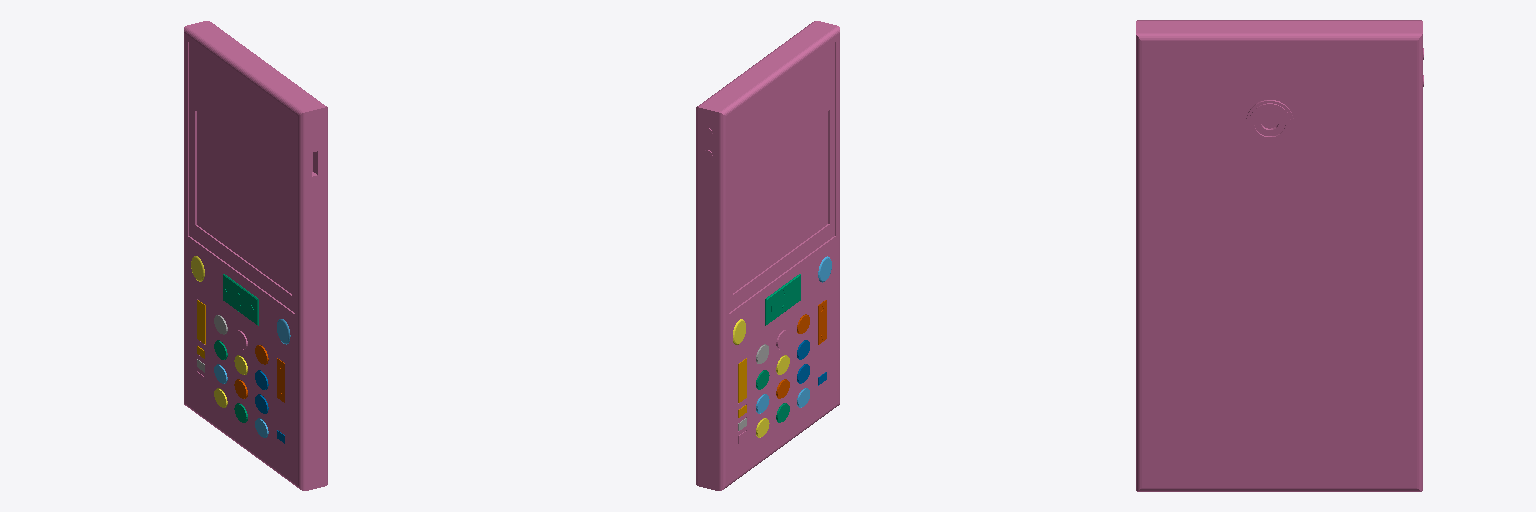
--- What the picture shows (computed from the rendered views, not written in the file) ---
3 views of the same robot in one strip: view 1: azimuth 30°, elevation 25°; view 2: azimuth 150°, elevation 25°; view 3: azimuth 270°, elevation 25° (orthographic).
Robot: partnet_b1feb3020d9380ba4fb324159a14f34e — 23 links, 22 joints (2 revolute, 19 prismatic, 1 fixed); root link base; default pose: all joints at 0.
Visible links, largest first — view 1: link_21, link_9; view 2: link_21, link_9; view 3: link_21.
Boxes of the visible links, left/top/right/bottom form: link_21: left=184, top=21, right=327, bottom=490; link_9: left=223, top=274, right=258, bottom=325; link_21: left=696, top=21, right=839, bottom=490; link_9: left=765, top=274, right=800, bottom=325; link_21: left=1136, top=20, right=1423, bottom=491.
Size in the robot's own frame: 0.1663 by 1.01 by 1.77 metres.
94 mesh visuals loaded from 94 distinct referenced files (94 OBJ).

The robot description file, URDF, robot "partnet_b1feb3020d9380ba4fb324159a14f34e":
<?xml version="1.0" ?>
<robot name="partnet_b1feb3020d9380ba4fb324159a14f34e">
	<link name="base"/>
	<link name="link_0">
		<visual name="button-1">
			<origin xyz="0 0 0"/>
			<geometry>
				<mesh filename="textured_objs/original-76.obj"/>
			</geometry>
		</visual>
		<collision>
			<origin xyz="0 0 0"/>
			<geometry>
				<mesh filename="textured_objs/original-76.obj"/>
			</geometry>
		</collision>
	</link>
	<joint name="joint_0" type="prismatic">
		<origin xyz="0 0 0"/>
		<axis xyz="0 0 -1"/>
		<child link="link_0"/>
		<parent link="link_21"/>
		<limit lower="0" upper="0.002"/>
	</joint>
	<link name="link_1">
		<visual name="button-2">
			<origin xyz="0 0 0"/>
			<geometry>
				<mesh filename="textured_objs/original-77.obj"/>
			</geometry>
		</visual>
		<collision>
			<origin xyz="0 0 0"/>
			<geometry>
				<mesh filename="textured_objs/original-77.obj"/>
			</geometry>
		</collision>
	</link>
	<joint name="joint_1" type="prismatic">
		<origin xyz="0 0 0"/>
		<axis xyz="0 0 -1"/>
		<child link="link_1"/>
		<parent link="link_21"/>
		<limit lower="0" upper="0.002"/>
	</joint>
	<link name="link_2">
		<visual name="button-3">
			<origin xyz="0 0 0"/>
			<geometry>
				<mesh filename="textured_objs/original-79.obj"/>
			</geometry>
		</visual>
		<collision>
			<origin xyz="0 0 0"/>
			<geometry>
				<mesh filename="textured_objs/original-79.obj"/>
			</geometry>
		</collision>
	</link>
	<joint name="joint_2" type="prismatic">
		<origin xyz="0 0 0"/>
		<axis xyz="0 0 -1"/>
		<child link="link_2"/>
		<parent link="link_21"/>
		<limit lower="0" upper="0.002"/>
	</joint>
	<link name="link_3">
		<visual name="button-4">
			<origin xyz="0 0 0"/>
			<geometry>
				<mesh filename="textured_objs/original-74.obj"/>
			</geometry>
		</visual>
		<collision>
			<origin xyz="0 0 0"/>
			<geometry>
				<mesh filename="textured_objs/original-74.obj"/>
			</geometry>
		</collision>
	</link>
	<joint name="joint_3" type="prismatic">
		<origin xyz="0 0 0"/>
		<axis xyz="0 0 -1"/>
		<child link="link_3"/>
		<parent link="link_21"/>
		<limit lower="0" upper="0.002"/>
	</joint>
	<link name="link_4">
		<visual name="button-5">
			<origin xyz="0 0 0"/>
			<geometry>
				<mesh filename="textured_objs/original-70.obj"/>
			</geometry>
		</visual>
		<collision>
			<origin xyz="0 0 0"/>
			<geometry>
				<mesh filename="textured_objs/original-70.obj"/>
			</geometry>
		</collision>
	</link>
	<joint name="joint_4" type="prismatic">
		<origin xyz="0 0 0"/>
		<axis xyz="0 0 -1"/>
		<child link="link_4"/>
		<parent link="link_21"/>
		<limit lower="0" upper="0.002"/>
	</joint>
	<link name="link_5">
		<visual name="button-6">
			<origin xyz="0 0 0"/>
			<geometry>
				<mesh filename="textured_objs/original-72.obj"/>
			</geometry>
		</visual>
		<collision>
			<origin xyz="0 0 0"/>
			<geometry>
				<mesh filename="textured_objs/original-72.obj"/>
			</geometry>
		</collision>
	</link>
	<joint name="joint_5" type="prismatic">
		<origin xyz="0 0 0"/>
		<axis xyz="0 0 -1"/>
		<child link="link_5"/>
		<parent link="link_21"/>
		<limit lower="0" upper="0.002"/>
	</joint>
	<link name="link_6">
		<visual name="button-7">
			<origin xyz="0 0 0"/>
			<geometry>
				<mesh filename="textured_objs/original-73.obj"/>
			</geometry>
		</visual>
		<collision>
			<origin xyz="0 0 0"/>
			<geometry>
				<mesh filename="textured_objs/original-73.obj"/>
			</geometry>
		</collision>
	</link>
	<joint name="joint_6" type="prismatic">
		<origin xyz="0 0 0"/>
		<axis xyz="0 0 -1"/>
		<child link="link_6"/>
		<parent link="link_21"/>
		<limit lower="0" upper="0.002"/>
	</joint>
	<link name="link_7">
		<visual name="button-8">
			<origin xyz="-0.344921 0.4128925 -0.07"/>
			<geometry>
				<mesh filename="textured_objs/original-84.obj"/>
			</geometry>
		</visual>
		<visual name="button-8">
			<origin xyz="-0.344921 0.4128925 -0.07"/>
			<geometry>
				<mesh filename="textured_objs/original-54.obj"/>
			</geometry>
		</visual>
		<collision>
			<origin xyz="-0.344921 0.4128925 -0.07"/>
			<geometry>
				<mesh filename="textured_objs/original-84.obj"/>
			</geometry>
		</collision>
		<collision>
			<origin xyz="-0.344921 0.4128925 -0.07"/>
			<geometry>
				<mesh filename="textured_objs/original-54.obj"/>
			</geometry>
		</collision>
	</link>
	<joint name="joint_7" type="revolute">
		<origin xyz="0.344921 -0.4128925 0.07"/>
		<axis xyz="1 0 0"/>
		<child link="link_7"/>
		<parent link="link_21"/>
		<limit lower="-0.017453292519943295" upper="0.017453292519943295"/>
	</joint>
	<link name="link_8">
		<visual name="button-9">
			<origin xyz="0 0 0"/>
			<geometry>
				<mesh filename="textured_objs/original-85.obj"/>
			</geometry>
		</visual>
		<collision>
			<origin xyz="0 0 0"/>
			<geometry>
				<mesh filename="textured_objs/original-85.obj"/>
			</geometry>
		</collision>
	</link>
	<joint name="joint_8" type="prismatic">
		<origin xyz="0 0 0"/>
		<axis xyz="0 0 -1"/>
		<child link="link_8"/>
		<parent link="link_21"/>
		<limit lower="0" upper="0.002"/>
	</joint>
	<link name="link_9">
		<visual name="button-10">
			<origin xyz="0 0 0"/>
			<geometry>
				<mesh filename="textured_objs/original-57.obj"/>
			</geometry>
		</visual>
		<visual name="button-10">
			<origin xyz="0 0 0"/>
			<geometry>
				<mesh filename="textured_objs/original-96.obj"/>
			</geometry>
		</visual>
		<visual name="button-10">
			<origin xyz="0 0 0"/>
			<geometry>
				<mesh filename="textured_objs/original-103.obj"/>
			</geometry>
		</visual>
		<visual name="button-10">
			<origin xyz="0 0 0"/>
			<geometry>
				<mesh filename="textured_objs/original-104.obj"/>
			</geometry>
		</visual>
		<visual name="button-10">
			<origin xyz="0 0 0"/>
			<geometry>
				<mesh filename="textured_objs/original-58.obj"/>
			</geometry>
		</visual>
		<visual name="button-10">
			<origin xyz="0 0 0"/>
			<geometry>
				<mesh filename="textured_objs/original-97.obj"/>
			</geometry>
		</visual>
		<visual name="button-10">
			<origin xyz="0 0 0"/>
			<geometry>
				<mesh filename="textured_objs/original-83.obj"/>
			</geometry>
		</visual>
		<visual name="button-10">
			<origin xyz="0 0 0"/>
			<geometry>
				<mesh filename="textured_objs/original-105.obj"/>
			</geometry>
		</visual>
		<visual name="button-10">
			<origin xyz="0 0 0"/>
			<geometry>
				<mesh filename="textured_objs/original-106.obj"/>
			</geometry>
		</visual>
		<visual name="button-10">
			<origin xyz="0 0 0"/>
			<geometry>
				<mesh filename="textured_objs/original-51.obj"/>
			</geometry>
		</visual>
		<collision>
			<origin xyz="0 0 0"/>
			<geometry>
				<mesh filename="textured_objs/original-57.obj"/>
			</geometry>
		</collision>
		<collision>
			<origin xyz="0 0 0"/>
			<geometry>
				<mesh filename="textured_objs/original-96.obj"/>
			</geometry>
		</collision>
		<collision>
			<origin xyz="0 0 0"/>
			<geometry>
				<mesh filename="textured_objs/original-103.obj"/>
			</geometry>
		</collision>
		<collision>
			<origin xyz="0 0 0"/>
			<geometry>
				<mesh filename="textured_objs/original-104.obj"/>
			</geometry>
		</collision>
		<collision>
			<origin xyz="0 0 0"/>
			<geometry>
				<mesh filename="textured_objs/original-58.obj"/>
			</geometry>
		</collision>
		<collision>
			<origin xyz="0 0 0"/>
			<geometry>
				<mesh filename="textured_objs/original-97.obj"/>
			</geometry>
		</collision>
		<collision>
			<origin xyz="0 0 0"/>
			<geometry>
				<mesh filename="textured_objs/original-83.obj"/>
			</geometry>
		</collision>
		<collision>
			<origin xyz="0 0 0"/>
			<geometry>
				<mesh filename="textured_objs/original-105.obj"/>
			</geometry>
		</collision>
		<collision>
			<origin xyz="0 0 0"/>
			<geometry>
				<mesh filename="textured_objs/original-106.obj"/>
			</geometry>
		</collision>
		<collision>
			<origin xyz="0 0 0"/>
			<geometry>
				<mesh filename="textured_objs/original-51.obj"/>
			</geometry>
		</collision>
	</link>
	<joint name="joint_9" type="prismatic">
		<origin xyz="0 0 0"/>
		<axis xyz="0 0 -1"/>
		<child link="link_9"/>
		<parent link="link_21"/>
		<limit lower="0" upper="0.002"/>
	</joint>
	<link name="link_10">
		<visual name="button-11">
			<origin xyz="0 0 0"/>
			<geometry>
				<mesh filename="textured_objs/original-67.obj"/>
			</geometry>
		</visual>
		<collision>
			<origin xyz="0 0 0"/>
			<geometry>
				<mesh filename="textured_objs/original-67.obj"/>
			</geometry>
		</collision>
	</link>
	<joint name="joint_10" type="prismatic">
		<origin xyz="0 0 0"/>
		<axis xyz="0 0 -1"/>
		<child link="link_10"/>
		<parent link="link_21"/>
		<limit lower="0" upper="0.002"/>
	</joint>
	<link name="link_11">
		<visual name="button-13">
			<origin xyz="0 0 0"/>
			<geometry>
				<mesh filename="textured_objs/original-87.obj"/>
			</geometry>
		</visual>
		<collision>
			<origin xyz="0 0 0"/>
			<geometry>
				<mesh filename="textured_objs/original-87.obj"/>
			</geometry>
		</collision>
	</link>
	<joint name="joint_11" type="prismatic">
		<origin xyz="0 0 0"/>
		<axis xyz="0 0 -1"/>
		<child link="link_11"/>
		<parent link="link_21"/>
		<limit lower="0" upper="0.002"/>
	</joint>
	<link name="link_12">
		<visual name="button-14">
			<origin xyz="-0.344921 0.4128925 -0.07"/>
			<geometry>
				<mesh filename="textured_objs/original-82.obj"/>
			</geometry>
		</visual>
		<visual name="button-14">
			<origin xyz="-0.344921 0.4128925 -0.07"/>
			<geometry>
				<mesh filename="textured_objs/original-89.obj"/>
			</geometry>
		</visual>
		<visual name="button-14">
			<origin xyz="-0.344921 0.4128925 -0.07"/>
			<geometry>
				<mesh filename="textured_objs/original-41.obj"/>
			</geometry>
		</visual>
		<visual name="button-14">
			<origin xyz="-0.344921 0.4128925 -0.07"/>
			<geometry>
				<mesh filename="textured_objs/original-46.obj"/>
			</geometry>
		</visual>
		<collision>
			<origin xyz="-0.344921 0.4128925 -0.07"/>
			<geometry>
				<mesh filename="textured_objs/original-82.obj"/>
			</geometry>
		</collision>
		<collision>
			<origin xyz="-0.344921 0.4128925 -0.07"/>
			<geometry>
				<mesh filename="textured_objs/original-89.obj"/>
			</geometry>
		</collision>
		<collision>
			<origin xyz="-0.344921 0.4128925 -0.07"/>
			<geometry>
				<mesh filename="textured_objs/original-41.obj"/>
			</geometry>
		</collision>
		<collision>
			<origin xyz="-0.344921 0.4128925 -0.07"/>
			<geometry>
				<mesh filename="textured_objs/original-46.obj"/>
			</geometry>
		</collision>
	</link>
	<joint name="joint_12" type="revolute">
		<origin xyz="0.344921 -0.4128925 0.07"/>
		<axis xyz="1 0 0"/>
		<child link="link_12"/>
		<parent link="link_21"/>
		<limit lower="-0.017453292519943295" upper="0.017453292519943295"/>
	</joint>
	<link name="link_13">
		<visual name="button-15">
			<origin xyz="0 0 0"/>
			<geometry>
				<mesh filename="textured_objs/original-98.obj"/>
			</geometry>
		</visual>
		<visual name="button-15">
			<origin xyz="0 0 0"/>
			<geometry>
				<mesh filename="textured_objs/original-53.obj"/>
			</geometry>
		</visual>
		<collision>
			<origin xyz="0 0 0"/>
			<geometry>
				<mesh filename="textured_objs/original-98.obj"/>
			</geometry>
		</collision>
		<collision>
			<origin xyz="0 0 0"/>
			<geometry>
				<mesh filename="textured_objs/original-53.obj"/>
			</geometry>
		</collision>
	</link>
	<joint name="joint_13" type="prismatic">
		<origin xyz="0 0 0"/>
		<axis xyz="0 0 -1"/>
		<child link="link_13"/>
		<parent link="link_21"/>
		<limit lower="0" upper="0.002"/>
	</joint>
	<link name="link_14">
		<visual name="button-16">
			<origin xyz="0 0 0"/>
			<geometry>
				<mesh filename="textured_objs/original-101.obj"/>
			</geometry>
		</visual>
		<visual name="button-16">
			<origin xyz="0 0 0"/>
			<geometry>
				<mesh filename="textured_objs/original-95.obj"/>
			</geometry>
		</visual>
		<visual name="button-16">
			<origin xyz="0 0 0"/>
			<geometry>
				<mesh filename="textured_objs/original-56.obj"/>
			</geometry>
		</visual>
		<collision>
			<origin xyz="0 0 0"/>
			<geometry>
				<mesh filename="textured_objs/original-101.obj"/>
			</geometry>
		</collision>
		<collision>
			<origin xyz="0 0 0"/>
			<geometry>
				<mesh filename="textured_objs/original-95.obj"/>
			</geometry>
		</collision>
		<collision>
			<origin xyz="0 0 0"/>
			<geometry>
				<mesh filename="textured_objs/original-56.obj"/>
			</geometry>
		</collision>
	</link>
	<joint name="joint_14" type="prismatic">
		<origin xyz="0 0 0"/>
		<axis xyz="0 0 -1"/>
		<child link="link_14"/>
		<parent link="link_21"/>
		<limit lower="0" upper="0.002"/>
	</joint>
	<link name="link_15">
		<visual name="button-17">
			<origin xyz="0 0 0"/>
			<geometry>
				<mesh filename="textured_objs/original-55.obj"/>
			</geometry>
		</visual>
		<visual name="button-17">
			<origin xyz="0 0 0"/>
			<geometry>
				<mesh filename="textured_objs/original-99.obj"/>
			</geometry>
		</visual>
		<collision>
			<origin xyz="0 0 0"/>
			<geometry>
				<mesh filename="textured_objs/original-55.obj"/>
			</geometry>
		</collision>
		<collision>
			<origin xyz="0 0 0"/>
			<geometry>
				<mesh filename="textured_objs/original-99.obj"/>
			</geometry>
		</collision>
	</link>
	<joint name="joint_15" type="prismatic">
		<origin xyz="0 0 0"/>
		<axis xyz="0 0 -1"/>
		<child link="link_15"/>
		<parent link="link_21"/>
		<limit lower="0" upper="0.002"/>
	</joint>
	<link name="link_16">
		<visual name="button-18">
			<origin xyz="0 0 0"/>
			<geometry>
				<mesh filename="textured_objs/original-71.obj"/>
			</geometry>
		</visual>
		<collision>
			<origin xyz="0 0 0"/>
			<geometry>
				<mesh filename="textured_objs/original-71.obj"/>
			</geometry>
		</collision>
	</link>
	<joint name="joint_16" type="prismatic">
		<origin xyz="0 0 0"/>
		<axis xyz="0 0 -1"/>
		<child link="link_16"/>
		<parent link="link_21"/>
		<limit lower="0" upper="0.002"/>
	</joint>
	<link name="link_17">
		<visual name="button-19">
			<origin xyz="0 0 0"/>
			<geometry>
				<mesh filename="textured_objs/original-69.obj"/>
			</geometry>
		</visual>
		<collision>
			<origin xyz="0 0 0"/>
			<geometry>
				<mesh filename="textured_objs/original-69.obj"/>
			</geometry>
		</collision>
	</link>
	<joint name="joint_17" type="prismatic">
		<origin xyz="0 0 0"/>
		<axis xyz="0 0 -1"/>
		<child link="link_17"/>
		<parent link="link_21"/>
		<limit lower="0" upper="0.002"/>
	</joint>
	<link name="link_18">
		<visual name="button-20">
			<origin xyz="0 0 0"/>
			<geometry>
				<mesh filename="textured_objs/original-68.obj"/>
			</geometry>
		</visual>
		<collision>
			<origin xyz="0 0 0"/>
			<geometry>
				<mesh filename="textured_objs/original-68.obj"/>
			</geometry>
		</collision>
	</link>
	<joint name="joint_18" type="prismatic">
		<origin xyz="0 0 0"/>
		<axis xyz="0 0 -1"/>
		<child link="link_18"/>
		<parent link="link_21"/>
		<limit lower="0" upper="0.002"/>
	</joint>
	<link name="link_19">
		<visual name="button-21">
			<origin xyz="0 0 0"/>
			<geometry>
				<mesh filename="textured_objs/original-75.obj"/>
			</geometry>
		</visual>
		<collision>
			<origin xyz="0 0 0"/>
			<geometry>
				<mesh filename="textured_objs/original-75.obj"/>
			</geometry>
		</collision>
	</link>
	<joint name="joint_19" type="prismatic">
		<origin xyz="0 0 0"/>
		<axis xyz="0 0 -1"/>
		<child link="link_19"/>
		<parent link="link_21"/>
		<limit lower="0" upper="0.002"/>
	</joint>
	<link name="link_20">
		<visual name="button-22">
			<origin xyz="0 0 0"/>
			<geometry>
				<mesh filename="textured_objs/original-78.obj"/>
			</geometry>
		</visual>
		<collision>
			<origin xyz="0 0 0"/>
			<geometry>
				<mesh filename="textured_objs/original-78.obj"/>
			</geometry>
		</collision>
	</link>
	<joint name="joint_20" type="prismatic">
		<origin xyz="0 0 0"/>
		<axis xyz="0 0 -1"/>
		<child link="link_20"/>
		<parent link="link_21"/>
		<limit lower="0" upper="0.002"/>
	</joint>
	<link name="link_21">
		<visual name="base_body-23">
			<origin xyz="0 0 0"/>
			<geometry>
				<mesh filename="textured_objs/original-29.obj"/>
			</geometry>
		</visual>
		<visual name="base_body-23">
			<origin xyz="0 0 0"/>
			<geometry>
				<mesh filename="textured_objs/original-100.obj"/>
			</geometry>
		</visual>
		<visual name="base_body-23">
			<origin xyz="0 0 0"/>
			<geometry>
				<mesh filename="textured_objs/original-21.obj"/>
			</geometry>
		</visual>
		<visual name="base_body-23">
			<origin xyz="0 0 0"/>
			<geometry>
				<mesh filename="textured_objs/original-30.obj"/>
			</geometry>
		</visual>
		<visual name="base_body-23">
			<origin xyz="0 0 0"/>
			<geometry>
				<mesh filename="textured_objs/original-36.obj"/>
			</geometry>
		</visual>
		<visual name="base_body-23">
			<origin xyz="0 0 0"/>
			<geometry>
				<mesh filename="textured_objs/original-64.obj"/>
			</geometry>
		</visual>
		<visual name="base_body-23">
			<origin xyz="0 0 0"/>
			<geometry>
				<mesh filename="textured_objs/original-52.obj"/>
			</geometry>
		</visual>
		<visual name="base_body-23">
			<origin xyz="0 0 0"/>
			<geometry>
				<mesh filename="textured_objs/original-22.obj"/>
			</geometry>
		</visual>
		<visual name="base_body-23">
			<origin xyz="0 0 0"/>
			<geometry>
				<mesh filename="textured_objs/original-26.obj"/>
			</geometry>
		</visual>
		<visual name="base_body-23">
			<origin xyz="0 0 0"/>
			<geometry>
				<mesh filename="textured_objs/original-4.obj"/>
			</geometry>
		</visual>
		<visual name="base_body-23">
			<origin xyz="0 0 0"/>
			<geometry>
				<mesh filename="textured_objs/original-3.obj"/>
			</geometry>
		</visual>
		<visual name="base_body-23">
			<origin xyz="0 0 0"/>
			<geometry>
				<mesh filename="textured_objs/original-65.obj"/>
			</geometry>
		</visual>
		<visual name="base_body-23">
			<origin xyz="0 0 0"/>
			<geometry>
				<mesh filename="textured_objs/original-33.obj"/>
			</geometry>
		</visual>
		<visual name="base_body-23">
			<origin xyz="0 0 0"/>
			<geometry>
				<mesh filename="textured_objs/original-2.obj"/>
			</geometry>
		</visual>
		<visual name="base_body-23">
			<origin xyz="0 0 0"/>
			<geometry>
				<mesh filename="textured_objs/original-44.obj"/>
			</geometry>
		</visual>
		<visual name="base_body-23">
			<origin xyz="0 0 0"/>
			<geometry>
				<mesh filename="textured_objs/original-16.obj"/>
			</geometry>
		</visual>
		<visual name="base_body-23">
			<origin xyz="0 0 0"/>
			<geometry>
				<mesh filename="textured_objs/original-86.obj"/>
			</geometry>
		</visual>
		<visual name="base_body-23">
			<origin xyz="0 0 0"/>
			<geometry>
				<mesh filename="textured_objs/original-8.obj"/>
			</geometry>
		</visual>
		<visual name="base_body-23">
			<origin xyz="0 0 0"/>
			<geometry>
				<mesh filename="textured_objs/original-13.obj"/>
			</geometry>
		</visual>
		<visual name="base_body-23">
			<origin xyz="0 0 0"/>
			<geometry>
				<mesh filename="textured_objs/original-45.obj"/>
			</geometry>
		</visual>
		<visual name="base_body-23">
			<origin xyz="0 0 0"/>
			<geometry>
				<mesh filename="textured_objs/original-35.obj"/>
			</geometry>
		</visual>
		<visual name="base_body-23">
			<origin xyz="0 0 0"/>
			<geometry>
				<mesh filename="textured_objs/original-49.obj"/>
			</geometry>
		</visual>
		<visual name="base_body-23">
			<origin xyz="0 0 0"/>
			<geometry>
				<mesh filename="textured_objs/original-93.obj"/>
			</geometry>
		</visual>
		<visual name="base_body-23">
			<origin xyz="0 0 0"/>
			<geometry>
				<mesh filename="textured_objs/original-61.obj"/>
			</geometry>
		</visual>
		<visual name="base_body-23">
			<origin xyz="0 0 0"/>
			<geometry>
				<mesh filename="textured_objs/original-39.obj"/>
			</geometry>
		</visual>
		<visual name="base_body-23">
			<origin xyz="0 0 0"/>
			<geometry>
				<mesh filename="textured_objs/original-59.obj"/>
			</geometry>
		</visual>
		<visual name="base_body-23">
			<origin xyz="0 0 0"/>
			<geometry>
				<mesh filename="textured_objs/original-63.obj"/>
			</geometry>
		</visual>
		<visual name="base_body-23">
			<origin xyz="0 0 0"/>
			<geometry>
				<mesh filename="textured_objs/original-27.obj"/>
			</geometry>
		</visual>
		<visual name="base_body-23">
			<origin xyz="0 0 0"/>
			<geometry>
				<mesh filename="textured_objs/original-50.obj"/>
			</geometry>
		</visual>
		<visual name="base_body-23">
			<origin xyz="0 0 0"/>
			<geometry>
				<mesh filename="textured_objs/original-6.obj"/>
			</geometry>
		</visual>
		<visual name="base_body-23">
			<origin xyz="0 0 0"/>
			<geometry>
				<mesh filename="textured_objs/original-31.obj"/>
			</geometry>
		</visual>
		<visual name="base_body-23">
			<origin xyz="0 0 0"/>
			<geometry>
				<mesh filename="textured_objs/original-48.obj"/>
			</geometry>
		</visual>
		<visual name="base_body-23">
			<origin xyz="0 0 0"/>
			<geometry>
				<mesh filename="textured_objs/original-15.obj"/>
			</geometry>
		</visual>
		<visual name="base_body-23">
			<origin xyz="0 0 0"/>
			<geometry>
				<mesh filename="textured_objs/original-62.obj"/>
			</geometry>
		</visual>
		<visual name="base_body-23">
			<origin xyz="0 0 0"/>
			<geometry>
				<mesh filename="textured_objs/original-66.obj"/>
			</geometry>
		</visual>
		<visual name="base_body-23">
			<origin xyz="0 0 0"/>
			<geometry>
				<mesh filename="textured_objs/original-11.obj"/>
			</geometry>
		</visual>
		<visual name="base_body-23">
			<origin xyz="0 0 0"/>
			<geometry>
				<mesh filename="textured_objs/original-38.obj"/>
			</geometry>
		</visual>
		<visual name="base_body-23">
			<origin xyz="0 0 0"/>
			<geometry>
				<mesh filename="textured_objs/original-80.obj"/>
			</geometry>
		</visual>
		<visual name="base_body-23">
			<origin xyz="0 0 0"/>
			<geometry>
				<mesh filename="textured_objs/original-34.obj"/>
			</geometry>
		</visual>
		<visual name="base_body-23">
			<origin xyz="0 0 0"/>
			<geometry>
				<mesh filename="textured_objs/original-18.obj"/>
			</geometry>
		</visual>
		<visual name="base_body-23">
			<origin xyz="0 0 0"/>
			<geometry>
				<mesh filename="textured_objs/original-91.obj"/>
			</geometry>
		</visual>
		<visual name="base_body-23">
			<origin xyz="0 0 0"/>
			<geometry>
				<mesh filename="textured_objs/original-25.obj"/>
			</geometry>
		</visual>
		<visual name="base_body-23">
			<origin xyz="0 0 0"/>
			<geometry>
				<mesh filename="textured_objs/original-17.obj"/>
			</geometry>
		</visual>
		<visual name="base_body-23">
			<origin xyz="0 0 0"/>
			<geometry>
				<mesh filename="textured_objs/original-12.obj"/>
			</geometry>
		</visual>
		<visual name="base_body-23">
			<origin xyz="0 0 0"/>
			<geometry>
				<mesh filename="textured_objs/original-92.obj"/>
			</geometry>
		</visual>
		<visual name="base_body-23">
			<origin xyz="0 0 0"/>
			<geometry>
				<mesh filename="textured_objs/original-102.obj"/>
			</geometry>
		</visual>
		<visual name="base_body-23">
			<origin xyz="0 0 0"/>
			<geometry>
				<mesh filename="textured_objs/original-24.obj"/>
			</geometry>
		</visual>
		<visual name="base_body-23">
			<origin xyz="0 0 0"/>
			<geometry>
				<mesh filename="textured_objs/original-20.obj"/>
			</geometry>
		</visual>
		<visual name="base_body-23">
			<origin xyz="0 0 0"/>
			<geometry>
				<mesh filename="textured_objs/original-88.obj"/>
			</geometry>
		</visual>
		<visual name="base_body-23">
			<origin xyz="0 0 0"/>
			<geometry>
				<mesh filename="textured_objs/original-47.obj"/>
			</geometry>
		</visual>
		<visual name="base_body-23">
			<origin xyz="0 0 0"/>
			<geometry>
				<mesh filename="textured_objs/original-7.obj"/>
			</geometry>
		</visual>
		<visual name="base_body-23">
			<origin xyz="0 0 0"/>
			<geometry>
				<mesh filename="textured_objs/original-81.obj"/>
			</geometry>
		</visual>
		<visual name="base_body-23">
			<origin xyz="0 0 0"/>
			<geometry>
				<mesh filename="textured_objs/original-94.obj"/>
			</geometry>
		</visual>
		<visual name="base_body-23">
			<origin xyz="0 0 0"/>
			<geometry>
				<mesh filename="textured_objs/original-10.obj"/>
			</geometry>
		</visual>
		<visual name="base_body-23">
			<origin xyz="0 0 0"/>
			<geometry>
				<mesh filename="textured_objs/original-60.obj"/>
			</geometry>
		</visual>
		<visual name="base_body-23">
			<origin xyz="0 0 0"/>
			<geometry>
				<mesh filename="textured_objs/original-90.obj"/>
			</geometry>
		</visual>
		<collision>
			<origin xyz="0 0 0"/>
			<geometry>
				<mesh filename="textured_objs/original-29.obj"/>
			</geometry>
		</collision>
		<collision>
			<origin xyz="0 0 0"/>
			<geometry>
				<mesh filename="textured_objs/original-100.obj"/>
			</geometry>
		</collision>
		<collision>
			<origin xyz="0 0 0"/>
			<geometry>
				<mesh filename="textured_objs/original-21.obj"/>
			</geometry>
		</collision>
		<collision>
			<origin xyz="0 0 0"/>
			<geometry>
				<mesh filename="textured_objs/original-30.obj"/>
			</geometry>
		</collision>
		<collision>
			<origin xyz="0 0 0"/>
			<geometry>
				<mesh filename="textured_objs/original-36.obj"/>
			</geometry>
		</collision>
		<collision>
			<origin xyz="0 0 0"/>
			<geometry>
				<mesh filename="textured_objs/original-64.obj"/>
			</geometry>
		</collision>
		<collision>
			<origin xyz="0 0 0"/>
			<geometry>
				<mesh filename="textured_objs/original-52.obj"/>
			</geometry>
		</collision>
		<collision>
			<origin xyz="0 0 0"/>
			<geometry>
				<mesh filename="textured_objs/original-22.obj"/>
			</geometry>
		</collision>
		<collision>
			<origin xyz="0 0 0"/>
			<geometry>
				<mesh filename="textured_objs/original-26.obj"/>
			</geometry>
		</collision>
		<collision>
			<origin xyz="0 0 0"/>
			<geometry>
				<mesh filename="textured_objs/original-4.obj"/>
			</geometry>
		</collision>
		<collision>
			<origin xyz="0 0 0"/>
			<geometry>
				<mesh filename="textured_objs/original-3.obj"/>
			</geometry>
		</collision>
		<collision>
			<origin xyz="0 0 0"/>
			<geometry>
				<mesh filename="textured_objs/original-65.obj"/>
			</geometry>
		</collision>
		<collision>
			<origin xyz="0 0 0"/>
			<geometry>
				<mesh filename="textured_objs/original-33.obj"/>
			</geometry>
		</collision>
		<collision>
			<origin xyz="0 0 0"/>
			<geometry>
				<mesh filename="textured_objs/original-2.obj"/>
			</geometry>
		</collision>
		<collision>
			<origin xyz="0 0 0"/>
			<geometry>
				<mesh filename="textured_objs/original-44.obj"/>
			</geometry>
		</collision>
		<collision>
			<origin xyz="0 0 0"/>
			<geometry>
				<mesh filename="textured_objs/original-16.obj"/>
			</geometry>
		</collision>
		<collision>
			<origin xyz="0 0 0"/>
			<geometry>
				<mesh filename="textured_objs/original-86.obj"/>
			</geometry>
		</collision>
		<collision>
			<origin xyz="0 0 0"/>
			<geometry>
				<mesh filename="textured_objs/original-8.obj"/>
			</geometry>
		</collision>
		<collision>
			<origin xyz="0 0 0"/>
			<geometry>
				<mesh filename="textured_objs/original-13.obj"/>
			</geometry>
		</collision>
		<collision>
			<origin xyz="0 0 0"/>
			<geometry>
				<mesh filename="textured_objs/original-45.obj"/>
			</geometry>
		</collision>
		<collision>
			<origin xyz="0 0 0"/>
			<geometry>
				<mesh filename="textured_objs/original-35.obj"/>
			</geometry>
		</collision>
		<collision>
			<origin xyz="0 0 0"/>
			<geometry>
				<mesh filename="textured_objs/original-49.obj"/>
			</geometry>
		</collision>
		<collision>
			<origin xyz="0 0 0"/>
			<geometry>
				<mesh filename="textured_objs/original-93.obj"/>
			</geometry>
		</collision>
		<collision>
			<origin xyz="0 0 0"/>
			<geometry>
				<mesh filename="textured_objs/original-61.obj"/>
			</geometry>
		</collision>
		<collision>
			<origin xyz="0 0 0"/>
			<geometry>
				<mesh filename="textured_objs/original-39.obj"/>
			</geometry>
		</collision>
		<collision>
			<origin xyz="0 0 0"/>
			<geometry>
				<mesh filename="textured_objs/original-59.obj"/>
			</geometry>
		</collision>
		<collision>
			<origin xyz="0 0 0"/>
			<geometry>
				<mesh filename="textured_objs/original-63.obj"/>
			</geometry>
		</collision>
		<collision>
			<origin xyz="0 0 0"/>
			<geometry>
				<mesh filename="textured_objs/original-27.obj"/>
			</geometry>
		</collision>
		<collision>
			<origin xyz="0 0 0"/>
			<geometry>
				<mesh filename="textured_objs/original-50.obj"/>
			</geometry>
		</collision>
		<collision>
			<origin xyz="0 0 0"/>
			<geometry>
				<mesh filename="textured_objs/original-6.obj"/>
			</geometry>
		</collision>
		<collision>
			<origin xyz="0 0 0"/>
			<geometry>
				<mesh filename="textured_objs/original-31.obj"/>
			</geometry>
		</collision>
		<collision>
			<origin xyz="0 0 0"/>
			<geometry>
				<mesh filename="textured_objs/original-48.obj"/>
			</geometry>
		</collision>
		<collision>
			<origin xyz="0 0 0"/>
			<geometry>
				<mesh filename="textured_objs/original-15.obj"/>
			</geometry>
		</collision>
		<collision>
			<origin xyz="0 0 0"/>
			<geometry>
				<mesh filename="textured_objs/original-62.obj"/>
			</geometry>
		</collision>
		<collision>
			<origin xyz="0 0 0"/>
			<geometry>
				<mesh filename="textured_objs/original-66.obj"/>
			</geometry>
		</collision>
		<collision>
			<origin xyz="0 0 0"/>
			<geometry>
				<mesh filename="textured_objs/original-11.obj"/>
			</geometry>
		</collision>
		<collision>
			<origin xyz="0 0 0"/>
			<geometry>
				<mesh filename="textured_objs/original-38.obj"/>
			</geometry>
		</collision>
		<collision>
			<origin xyz="0 0 0"/>
			<geometry>
				<mesh filename="textured_objs/original-80.obj"/>
			</geometry>
		</collision>
		<collision>
			<origin xyz="0 0 0"/>
			<geometry>
				<mesh filename="textured_objs/original-34.obj"/>
			</geometry>
		</collision>
		<collision>
			<origin xyz="0 0 0"/>
			<geometry>
				<mesh filename="textured_objs/original-18.obj"/>
			</geometry>
		</collision>
		<collision>
			<origin xyz="0 0 0"/>
			<geometry>
				<mesh filename="textured_objs/original-91.obj"/>
			</geometry>
		</collision>
		<collision>
			<origin xyz="0 0 0"/>
			<geometry>
				<mesh filename="textured_objs/original-25.obj"/>
			</geometry>
		</collision>
		<collision>
			<origin xyz="0 0 0"/>
			<geometry>
				<mesh filename="textured_objs/original-17.obj"/>
			</geometry>
		</collision>
		<collision>
			<origin xyz="0 0 0"/>
			<geometry>
				<mesh filename="textured_objs/original-12.obj"/>
			</geometry>
		</collision>
		<collision>
			<origin xyz="0 0 0"/>
			<geometry>
				<mesh filename="textured_objs/original-92.obj"/>
			</geometry>
		</collision>
		<collision>
			<origin xyz="0 0 0"/>
			<geometry>
				<mesh filename="textured_objs/original-102.obj"/>
			</geometry>
		</collision>
		<collision>
			<origin xyz="0 0 0"/>
			<geometry>
				<mesh filename="textured_objs/original-24.obj"/>
			</geometry>
		</collision>
		<collision>
			<origin xyz="0 0 0"/>
			<geometry>
				<mesh filename="textured_objs/original-20.obj"/>
			</geometry>
		</collision>
		<collision>
			<origin xyz="0 0 0"/>
			<geometry>
				<mesh filename="textured_objs/original-88.obj"/>
			</geometry>
		</collision>
		<collision>
			<origin xyz="0 0 0"/>
			<geometry>
				<mesh filename="textured_objs/original-47.obj"/>
			</geometry>
		</collision>
		<collision>
			<origin xyz="0 0 0"/>
			<geometry>
				<mesh filename="textured_objs/original-7.obj"/>
			</geometry>
		</collision>
		<collision>
			<origin xyz="0 0 0"/>
			<geometry>
				<mesh filename="textured_objs/original-81.obj"/>
			</geometry>
		</collision>
		<collision>
			<origin xyz="0 0 0"/>
			<geometry>
				<mesh filename="textured_objs/original-94.obj"/>
			</geometry>
		</collision>
		<collision>
			<origin xyz="0 0 0"/>
			<geometry>
				<mesh filename="textured_objs/original-10.obj"/>
			</geometry>
		</collision>
		<collision>
			<origin xyz="0 0 0"/>
			<geometry>
				<mesh filename="textured_objs/original-60.obj"/>
			</geometry>
		</collision>
		<collision>
			<origin xyz="0 0 0"/>
			<geometry>
				<mesh filename="textured_objs/original-90.obj"/>
			</geometry>
		</collision>
	</link>
	<joint name="joint_21" type="fixed">
		<origin rpy="1.570796326794897 0 -1.570796326794897" xyz="0 0 0"/>
		<child link="link_21"/>
		<parent link="base"/>
	</joint>
</robot>
